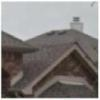chimneys: (69, 16, 85, 34)
